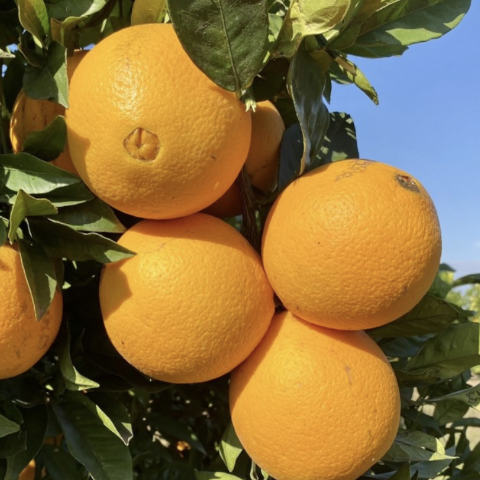orange: (58, 15, 272, 221), (203, 298, 422, 470), (84, 199, 280, 380), (262, 162, 463, 327)
